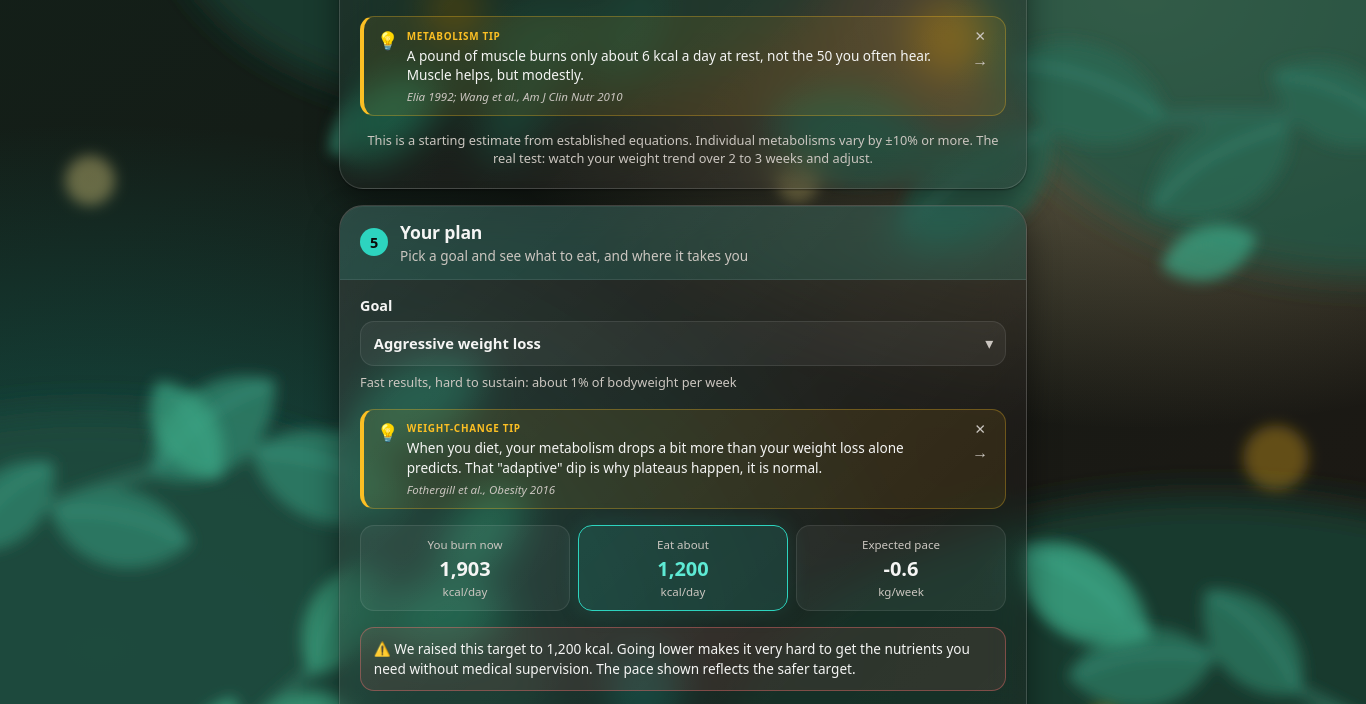
Test: <App /> end-to-end render › custom goal shows a calorie slider and keeps the trajectory below the floor
(page scrolled)
Step 1. Select "Custom calorie target" in the dropdown named "Goal" → (683, 343), box [360,321,1006,366]
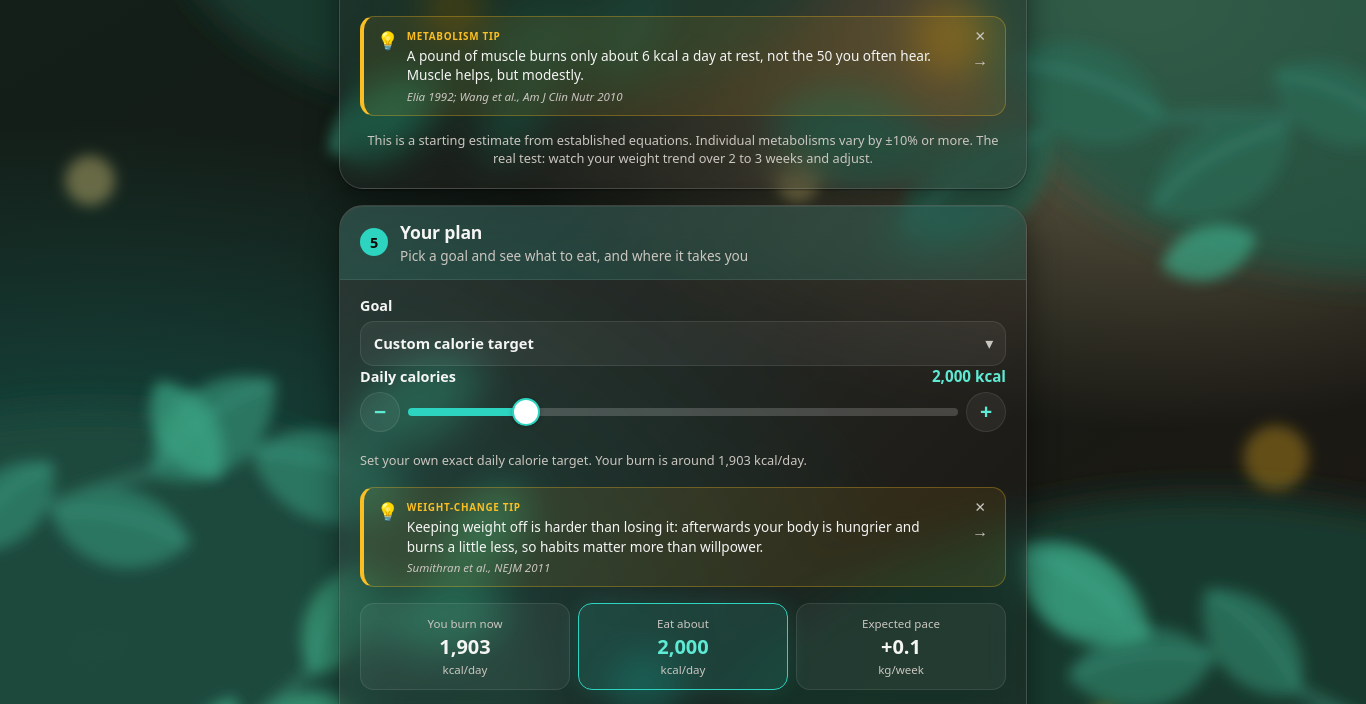
Step 2. Set the slider named "Daily calories" to "1000" → (416, 412), box [408,390,958,434]
(page scrolled)
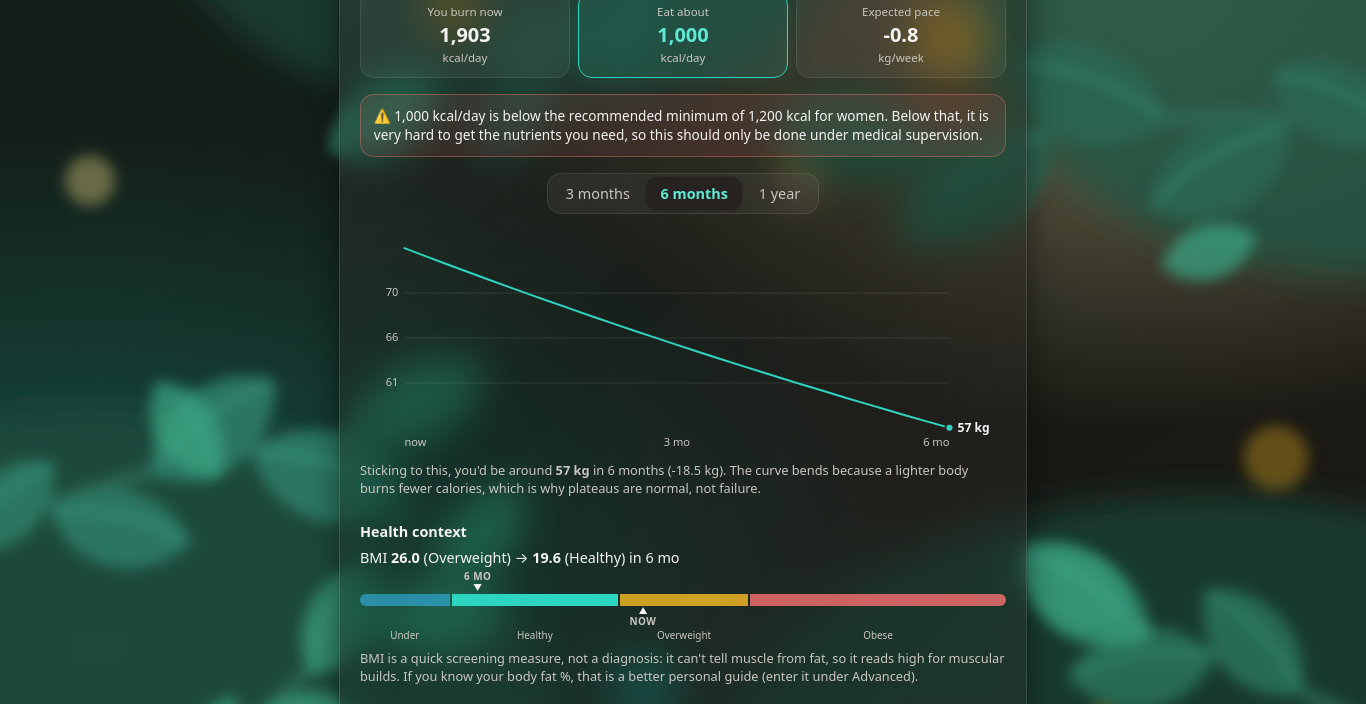
Expected: the picture named "Projected weight over" is shown, [360,232,1006,454]
Now the text "below the recommended minimum" is shown, box [429,106,748,125]
